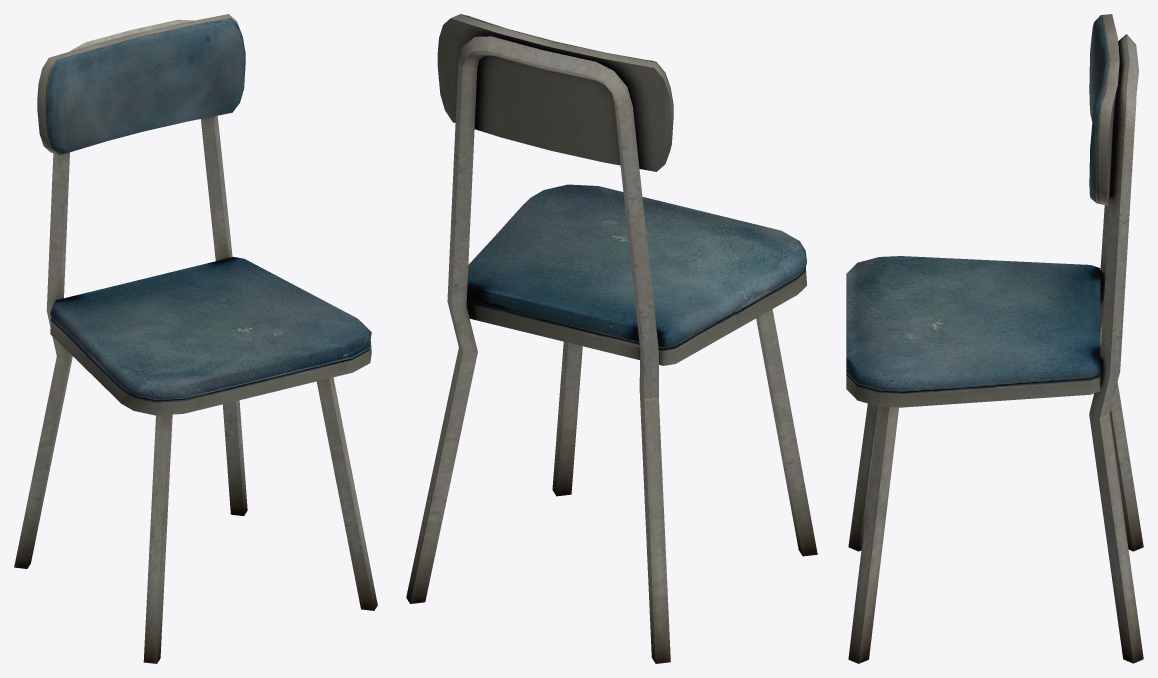
The model's file is si-stuhl-2.glb.
The picture shows the model from 3 angles, left to right: view 1: azimuth 30°, elevation 25°; view 2: azimuth 150°, elevation 25°; view 3: azimuth 270°, elevation 25°; orthographic projection. The views are drawn at different scales.
Visible parts, largest first — view 1: si-stuhl-2; view 2: si-stuhl-2; view 3: si-stuhl-2.
Boxes of the visible parts, x1=… form: si-stuhl-2: x1=14, y1=14, x2=377, y2=663; si-stuhl-2: x1=406, y1=14, x2=817, y2=663; si-stuhl-2: x1=846, y1=14, x2=1143, y2=663.
Bounding box in the file's own units: 0.3634 × 0.7344 × 0.3652.
1 material, 1 textured.
